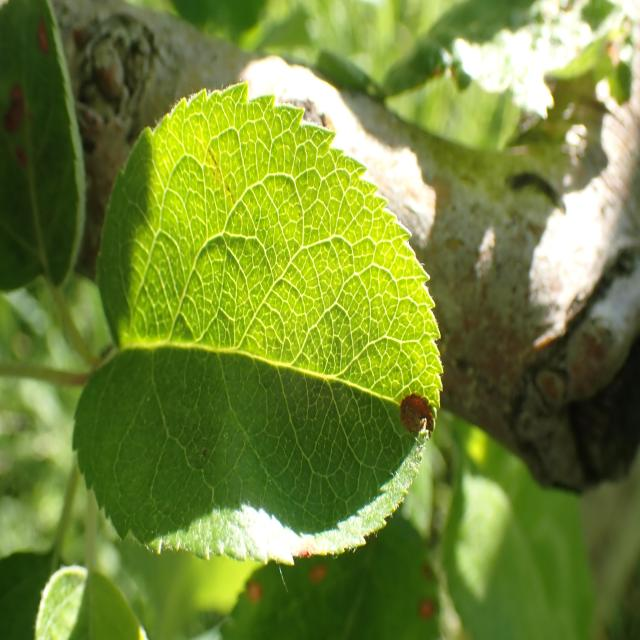Black Rot: (393, 372, 440, 474)
